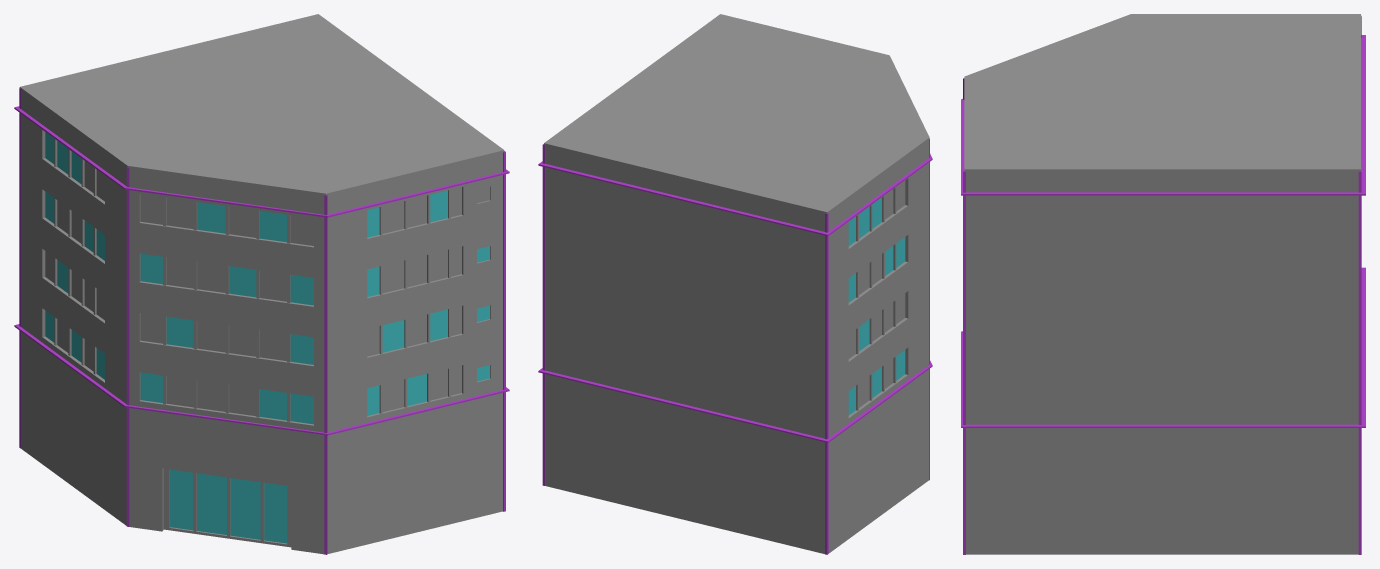
File: buildings_S_03_VAR2 1.fbx
3 views of the same model, side by side, from view 1: azimuth 30°, elevation 25°; view 2: azimuth 150°, elevation 25°; view 3: azimuth 270°, elevation 25° (orthographic). The views are drawn at different scales.
Parts seen in each view (by area): view 1: buildings_S_03_VAR2; view 2: buildings_S_03_VAR2; view 3: buildings_S_03_VAR2.
Part boxes in pixels (x1,y1,x2,y2): buildings_S_03_VAR2: [14, 14, 509, 554]; buildings_S_03_VAR2: [538, 14, 932, 554]; buildings_S_03_VAR2: [961, 14, 1365, 554].
Bounding box in the file's own units: 15.49 × 17.5 × 16.68.
